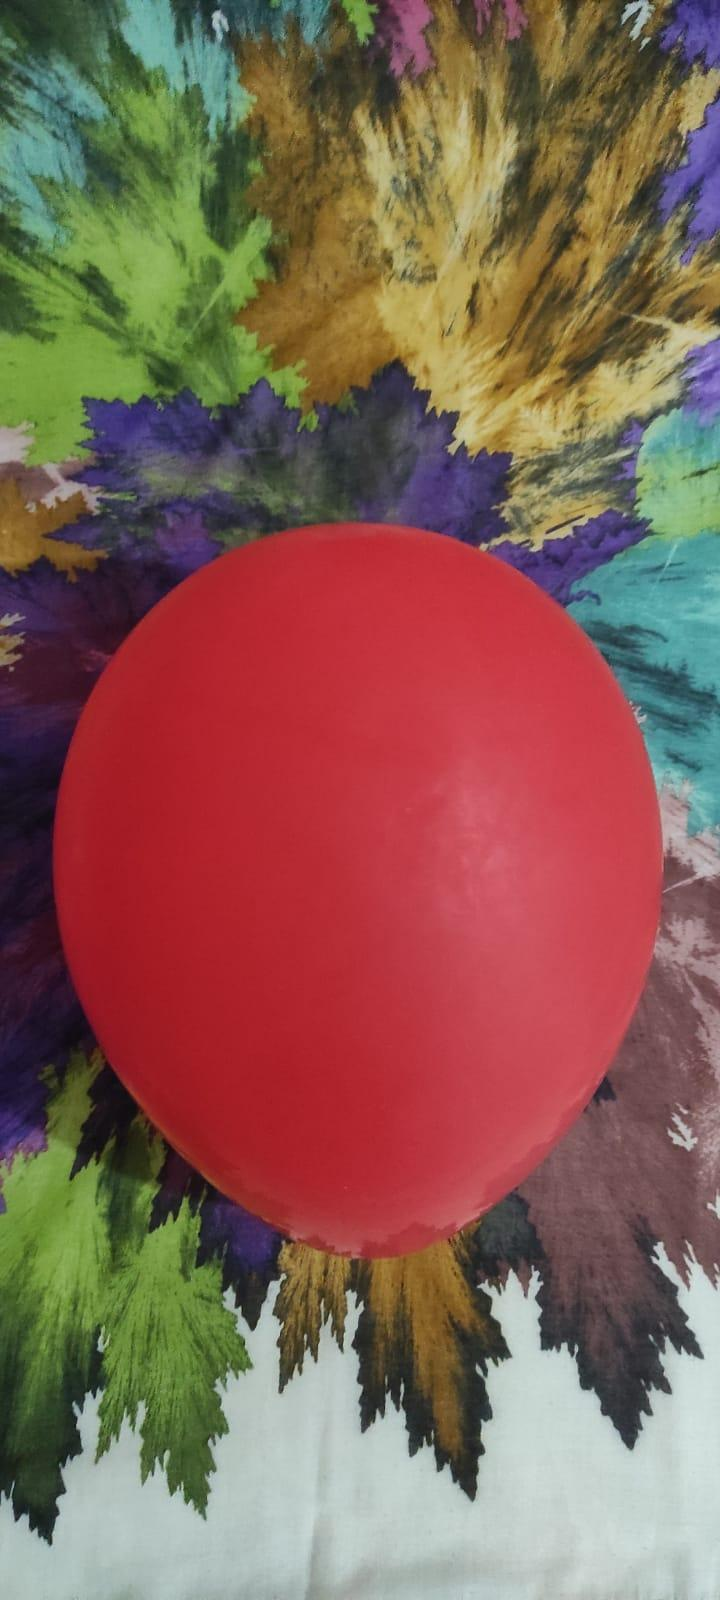red: (44, 510, 670, 1257)
